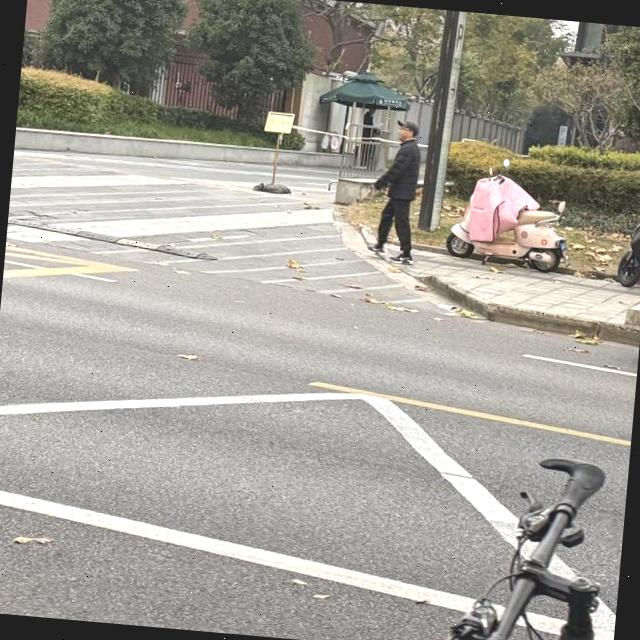curb: (423, 278, 639, 346), (16, 127, 273, 164), (281, 149, 338, 174)
